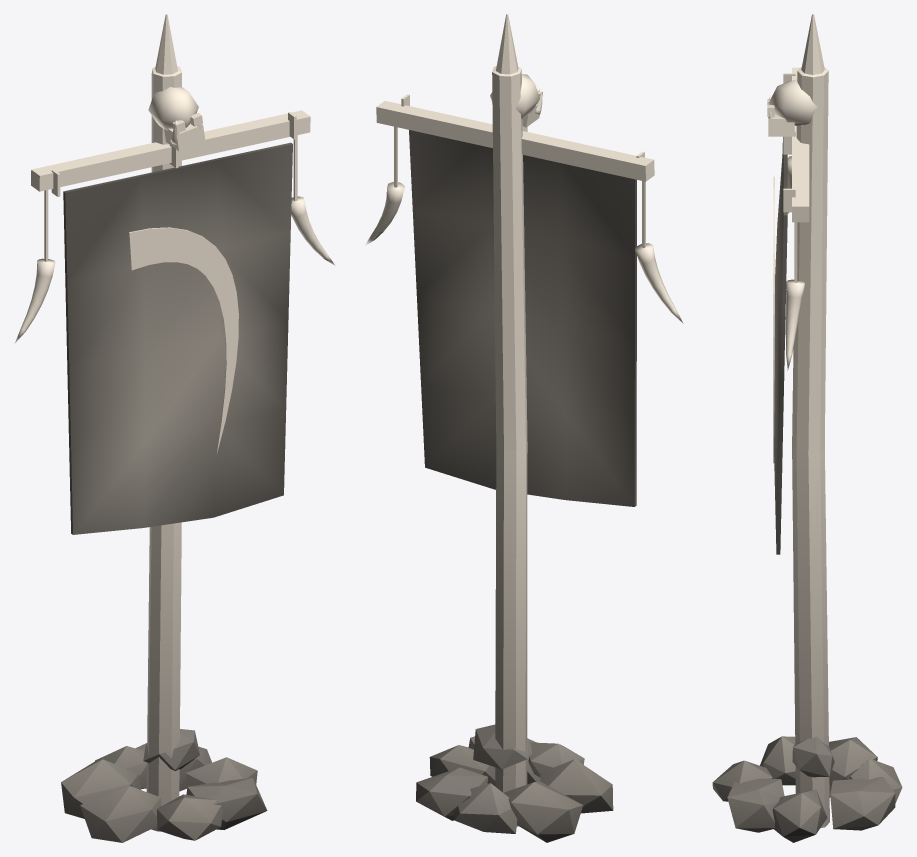
The model's file is SM_VKI_Prop_Orc_Banner.fbx.
3 renders of one model, left to right at view 1: azimuth 30°, elevation 25°; view 2: azimuth 150°, elevation 25°; view 3: azimuth 270°, elevation 25°, orthographic.
Parts seen in each view (by area): view 1: SM_VKI_Prop_Orc_Banner.001; view 2: SM_VKI_Prop_Orc_Banner.001; view 3: SM_VKI_Prop_Orc_Banner.001.
Part boxes in pixels (x1,y1,x2,y2): SM_VKI_Prop_Orc_Banner.001: [14, 14, 335, 842]; SM_VKI_Prop_Orc_Banner.001: [364, 14, 683, 842]; SM_VKI_Prop_Orc_Banner.001: [712, 14, 902, 842].
Bounding box in the file's own units: 1.5 × 3.61 × 0.7655.
